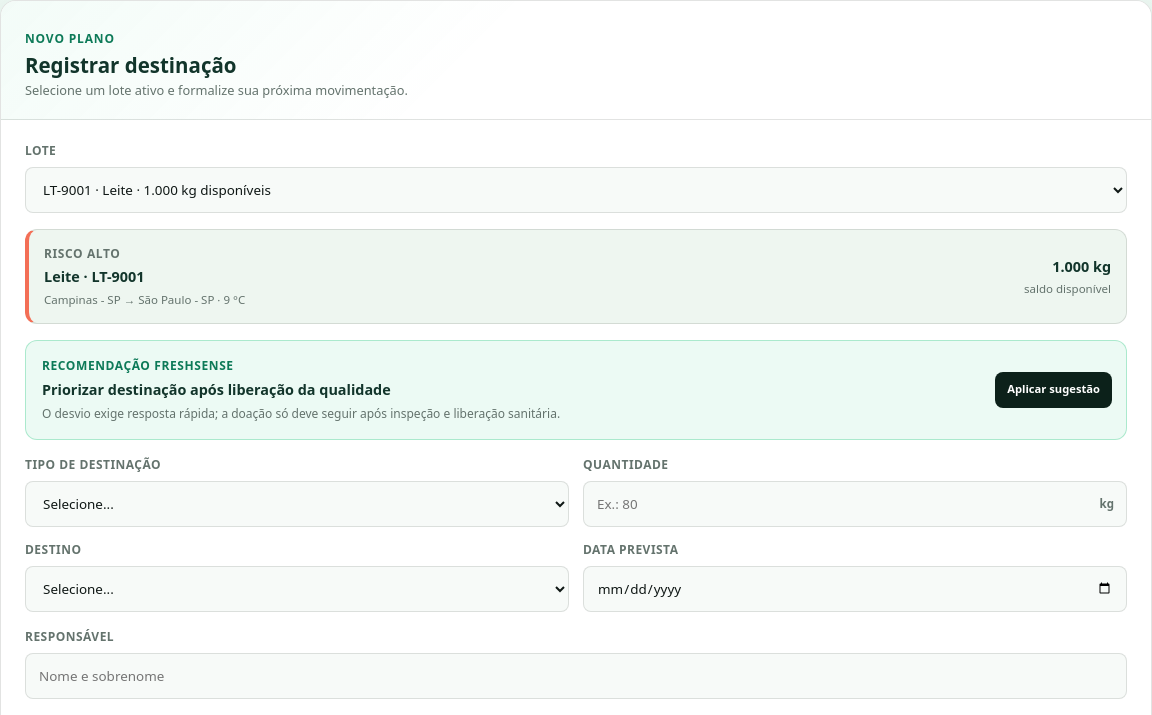
it: DestinationForm › limpa recomendação e quantidade ao trocar o lote
Click the button "Aplicar sugestão". click: (1054,390)
box: [995,372,1112,408]
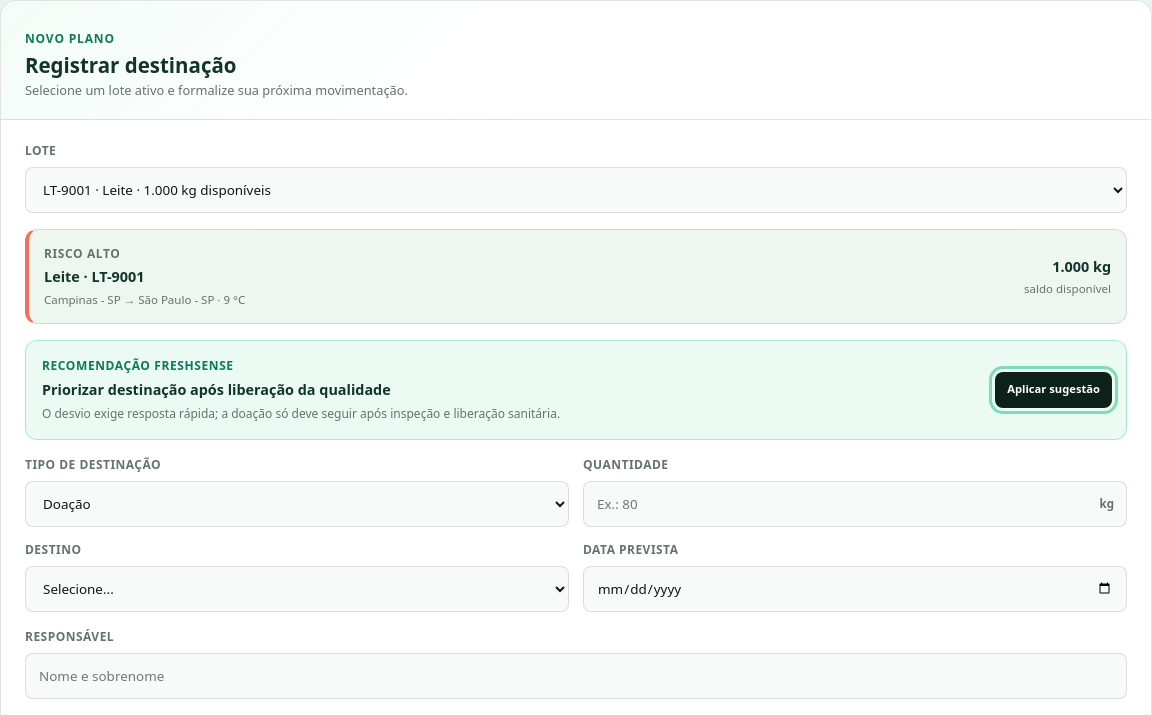
Type "80" into the number field labelled "Quantidade kg". click: (855,504)
box: [583,481,1127,527]
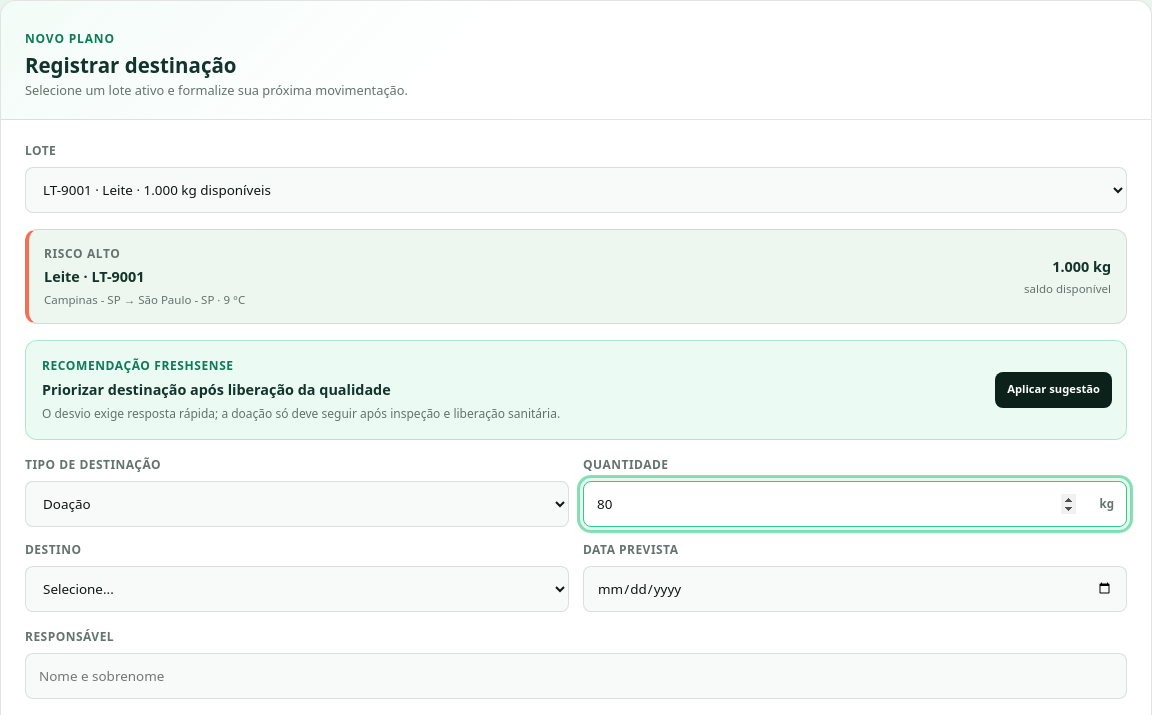
Check: the dropdown labelled "Tipo de destinação" shows "Doação", box [25,481,569,527]
Select "LT-9002 · Maçã · 600 kg disponíveis" in the dropdown labelled "Lote". click: (576,190)
box: [25,167,1127,213]
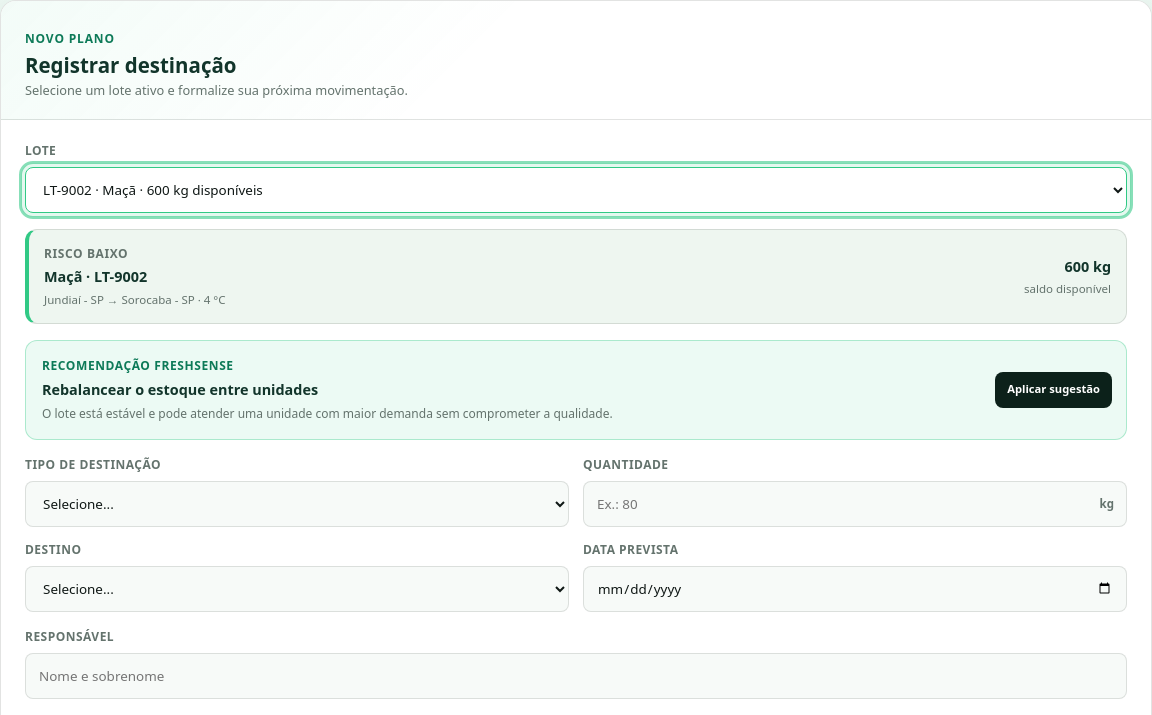
Check: the dropdown labelled "Tipo de destinação" shows "Selecione...", box [25,481,569,527]
Check: the number field labelled "Quantidade kg" is empty, box [583,481,1127,527]
Check: the text "Rebalancear o estoque entre unidades" is shown, box [42,380,318,399]
